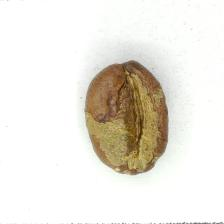NG: (88, 74, 159, 173)
